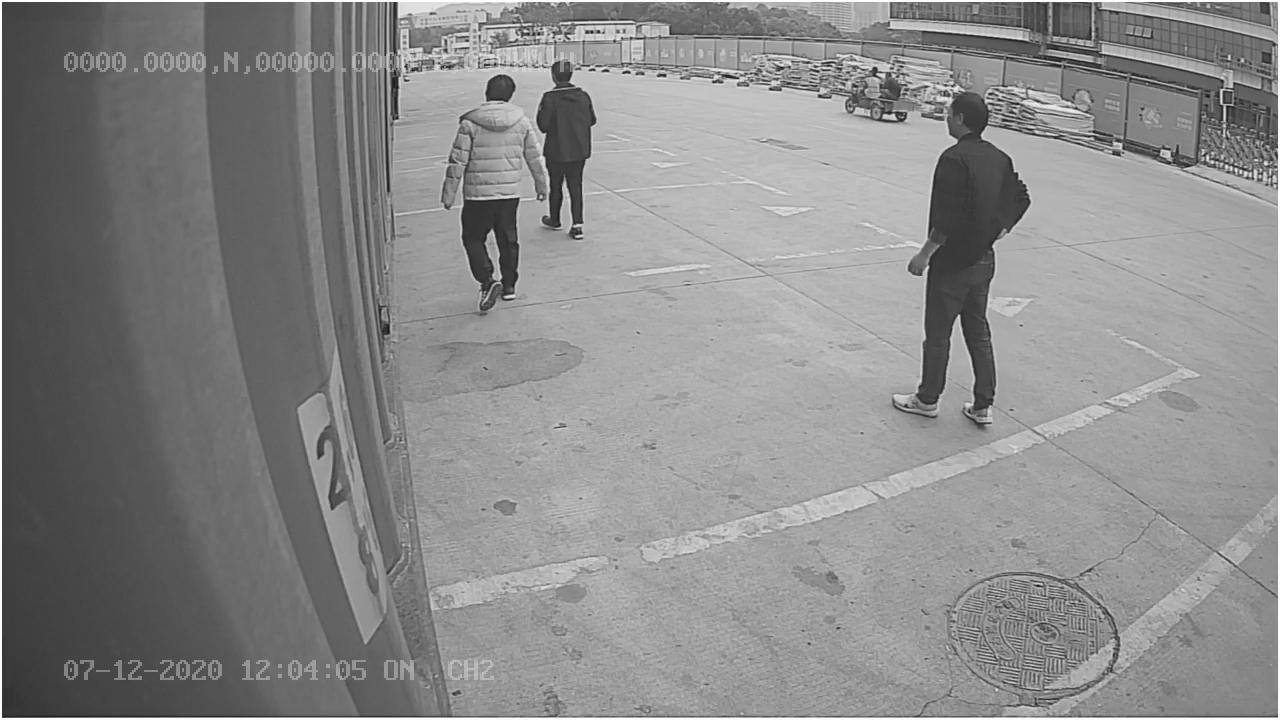person: (888, 87, 1034, 422), (439, 76, 551, 317)
